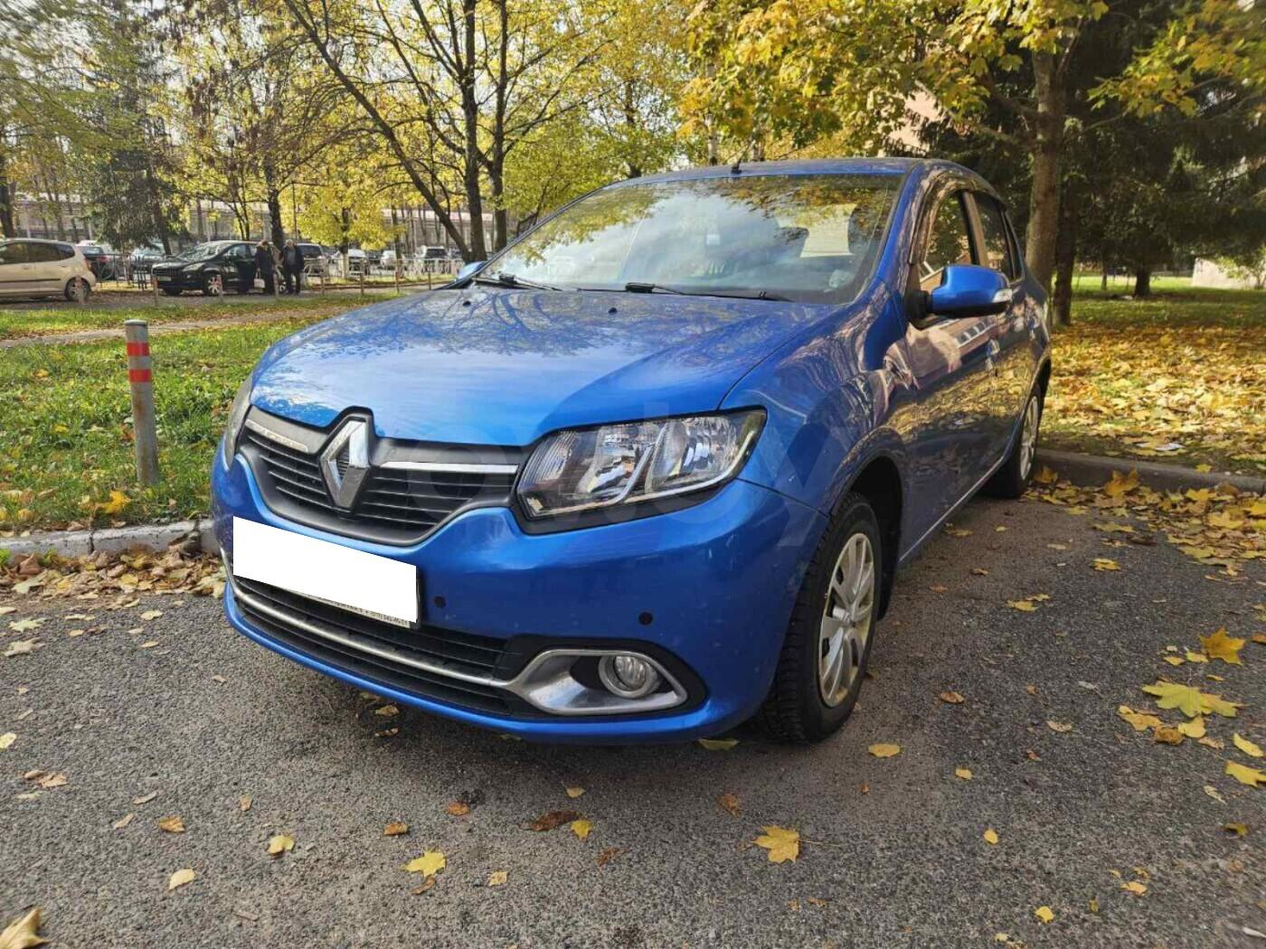Logan_2013-2018: (207, 147, 1067, 759)
